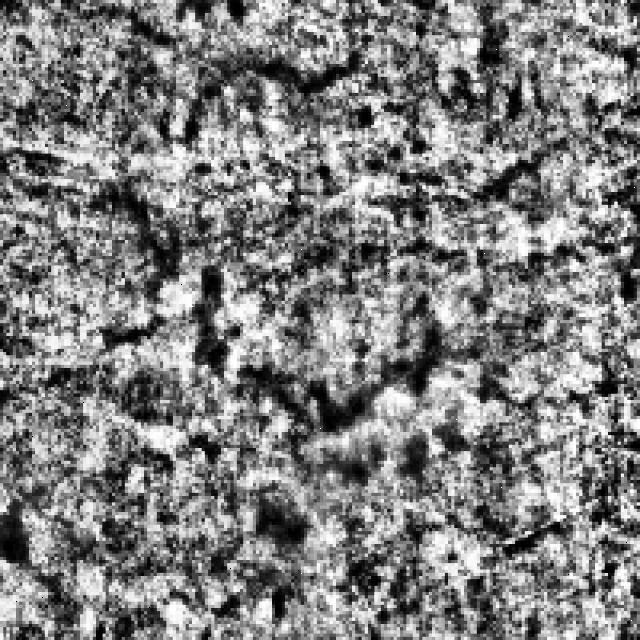Pitted_Surface: (58, 42, 544, 426), (16, 320, 365, 627), (26, 3, 224, 221)
